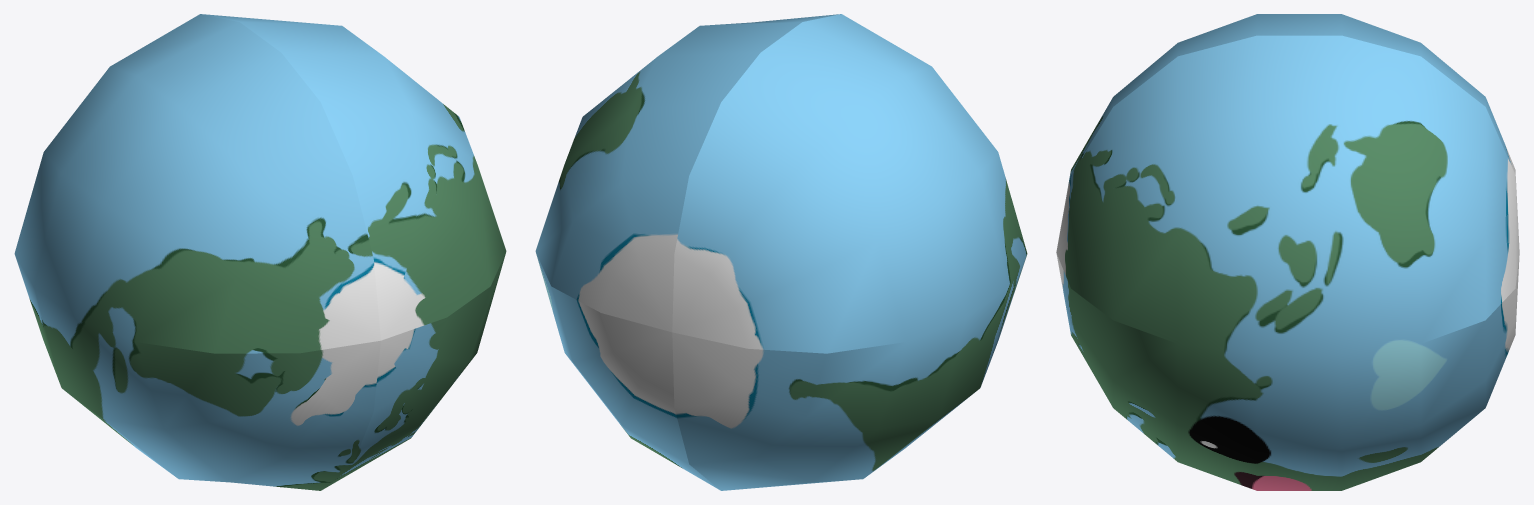
File: wilbo.fbx
3 views of the same model, side by side, from view 1: azimuth 30°, elevation 25°; view 2: azimuth 150°, elevation 25°; view 3: azimuth 270°, elevation 25° (orthographic).
Visible parts, largest first — view 1: wilbo; view 2: wilbo; view 3: wilbo.
Boxes of the visible parts, box(x1,y1,x2,y2) form: wilbo: box(14, 14, 506, 490); wilbo: box(535, 14, 1027, 490); wilbo: box(1056, 14, 1519, 490).
Size of the model in its own units: 0.6894 by 0.6894 by 0.667.
Materials: 2 (2 with a texture image).
